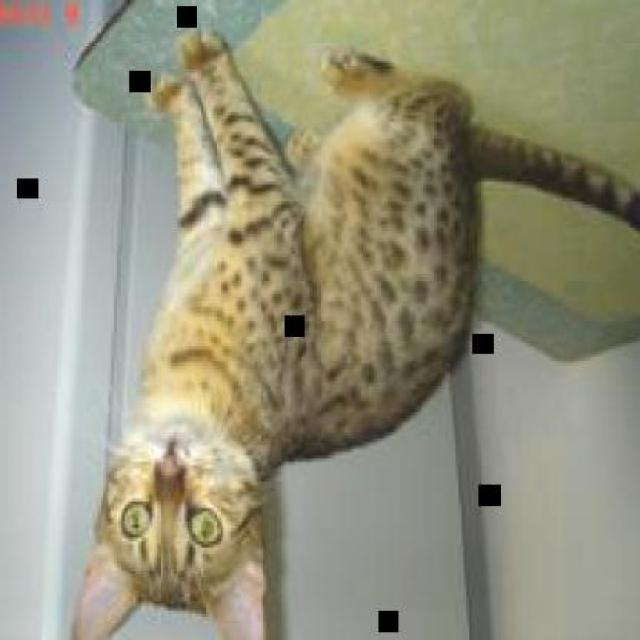cat: (71, 23, 638, 639)
